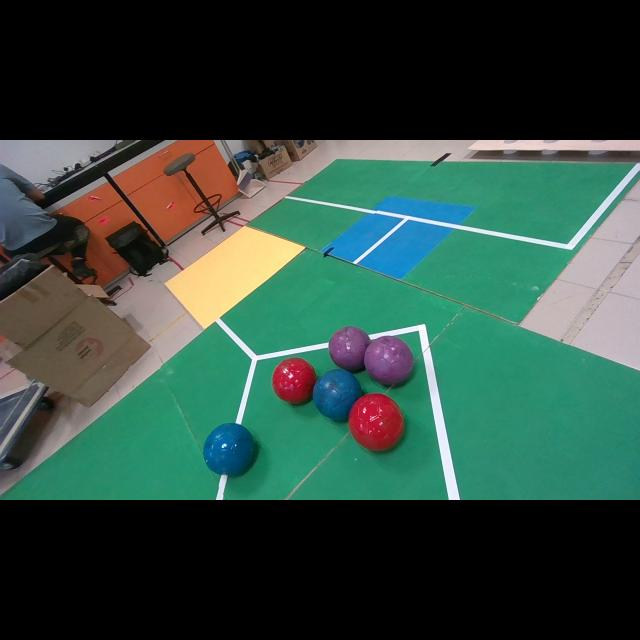B: (312, 369, 362, 421), (204, 422, 254, 474)
P: (364, 336, 414, 385), (329, 326, 371, 371)
R: (349, 394, 404, 451), (274, 359, 316, 403)
